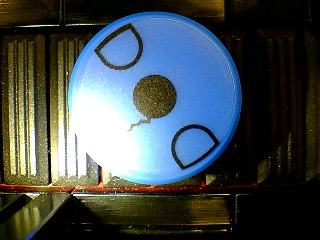CRACK: (68, 11, 243, 185)
